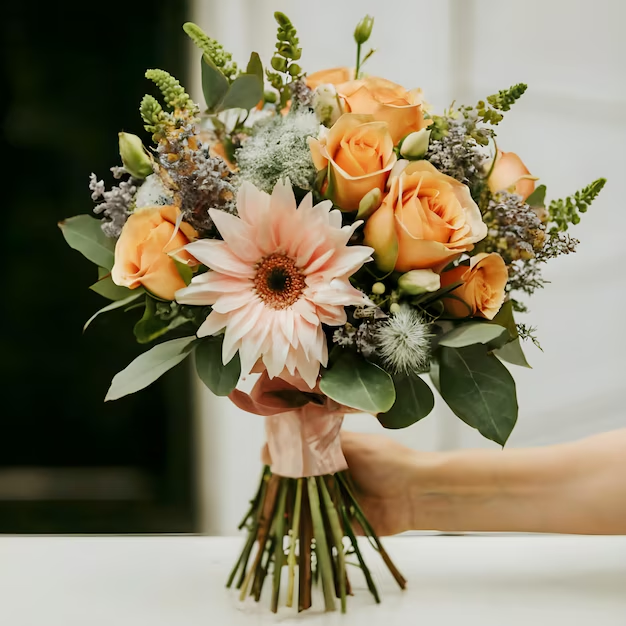Orange: (361, 159, 488, 274), (307, 112, 398, 215), (111, 203, 199, 305), (431, 251, 507, 322), (336, 85, 430, 131), (480, 146, 541, 206)
Pink: (176, 176, 373, 389)
